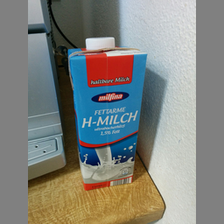milk: (65, 36, 142, 191)
